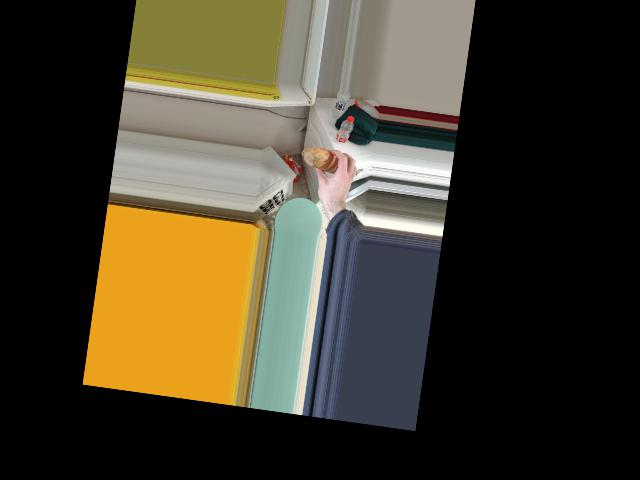sweet_potato: (308, 144, 344, 180)
